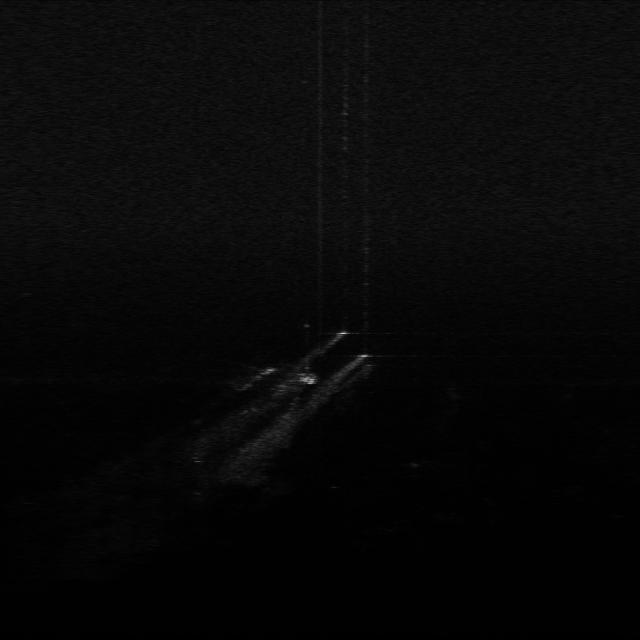rov: (297, 372, 319, 387)
